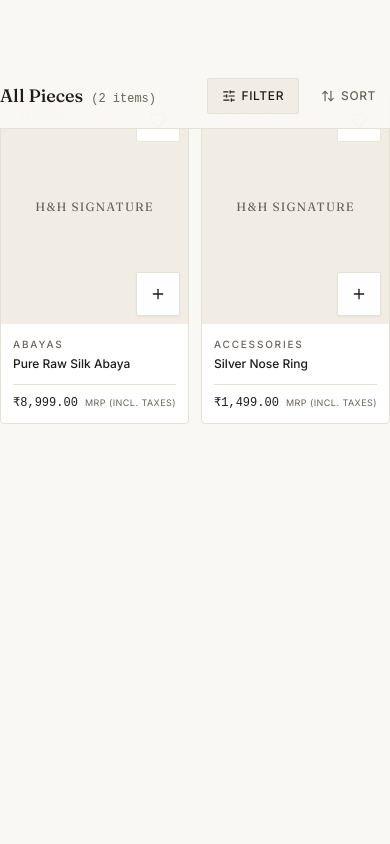
Test: ShopCatalog Component › opens mobile filter bottom sheet when filter button is clicked
Step 1. Click the button "Filter" → point(253, 96), box [207,78,299,114]
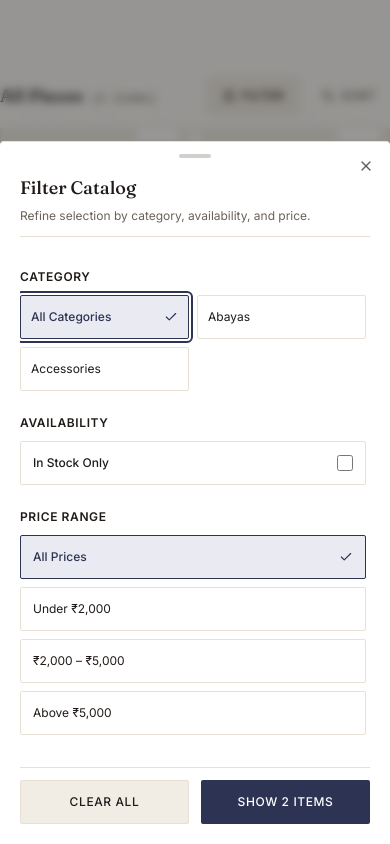
Expected: the heading "Filter Catalog" is shown, [20,176,136,199]
